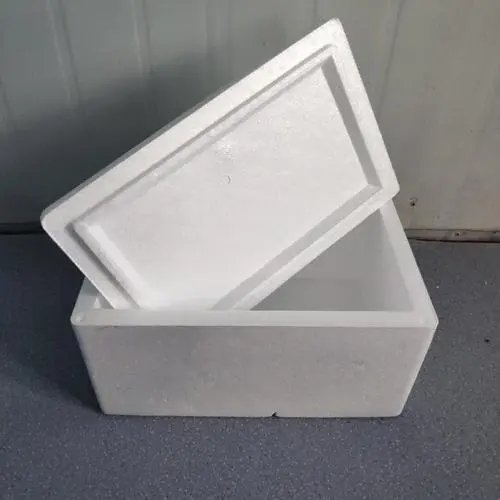泡沫箱: (41, 21, 438, 416)
